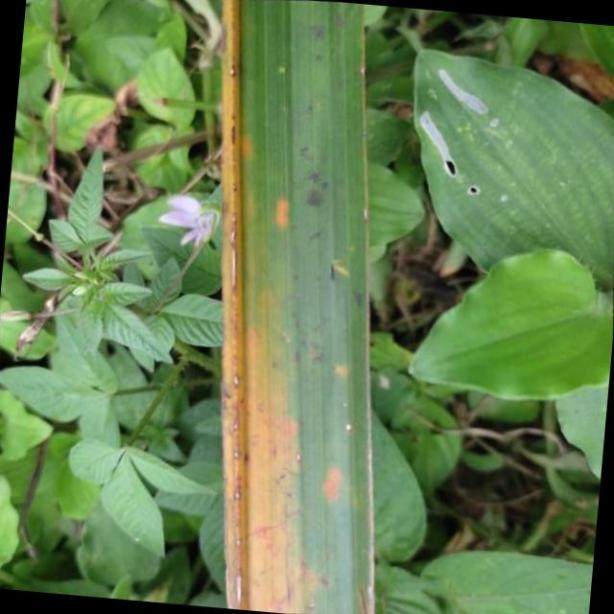Megnesium: (217, 3, 373, 614)
